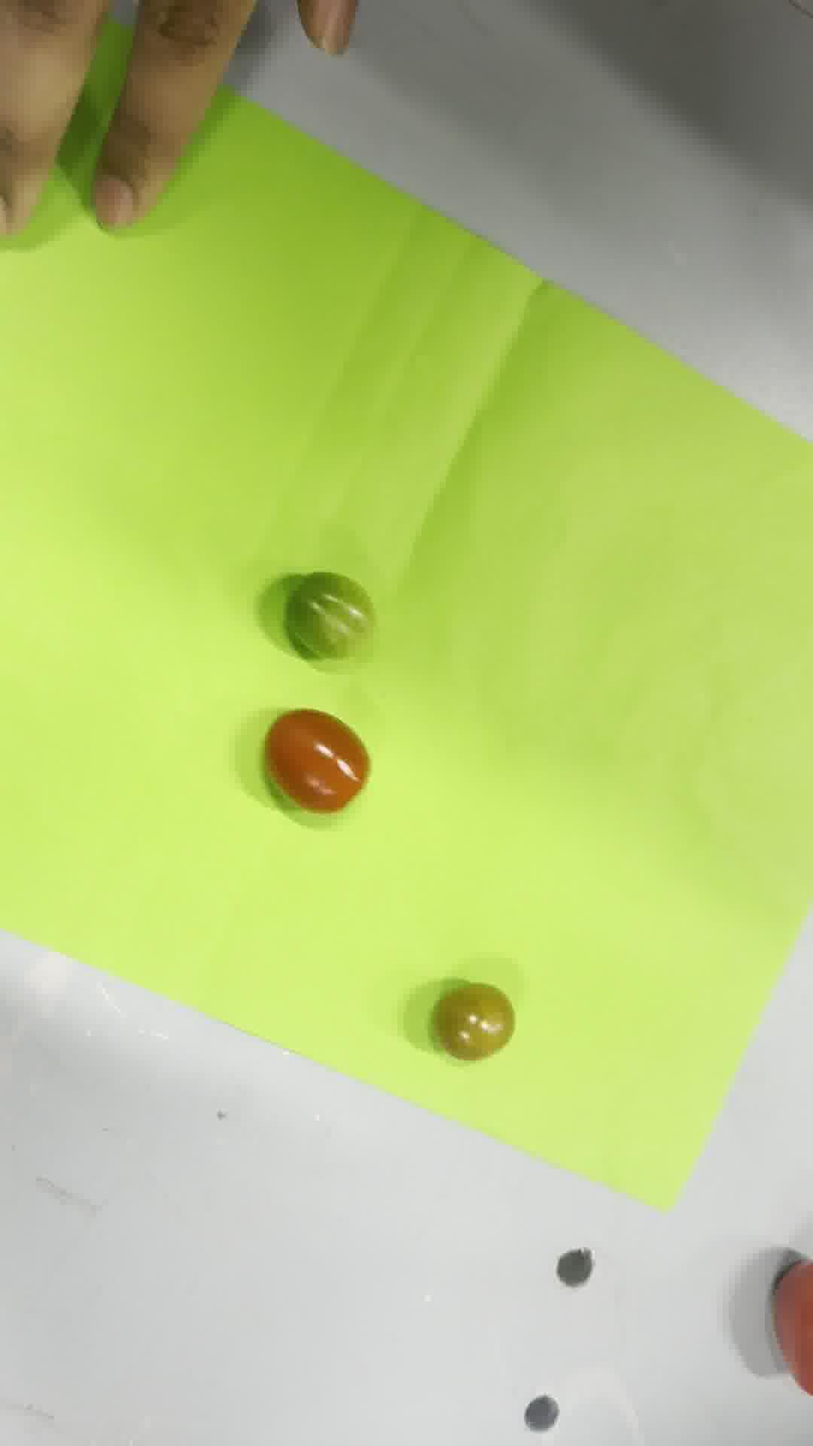green_cherry_tomato: (286, 572, 373, 659)
red_cherry_tomato: (265, 709, 370, 813)
yellow_cherry_tomato: (434, 984, 515, 1061)
